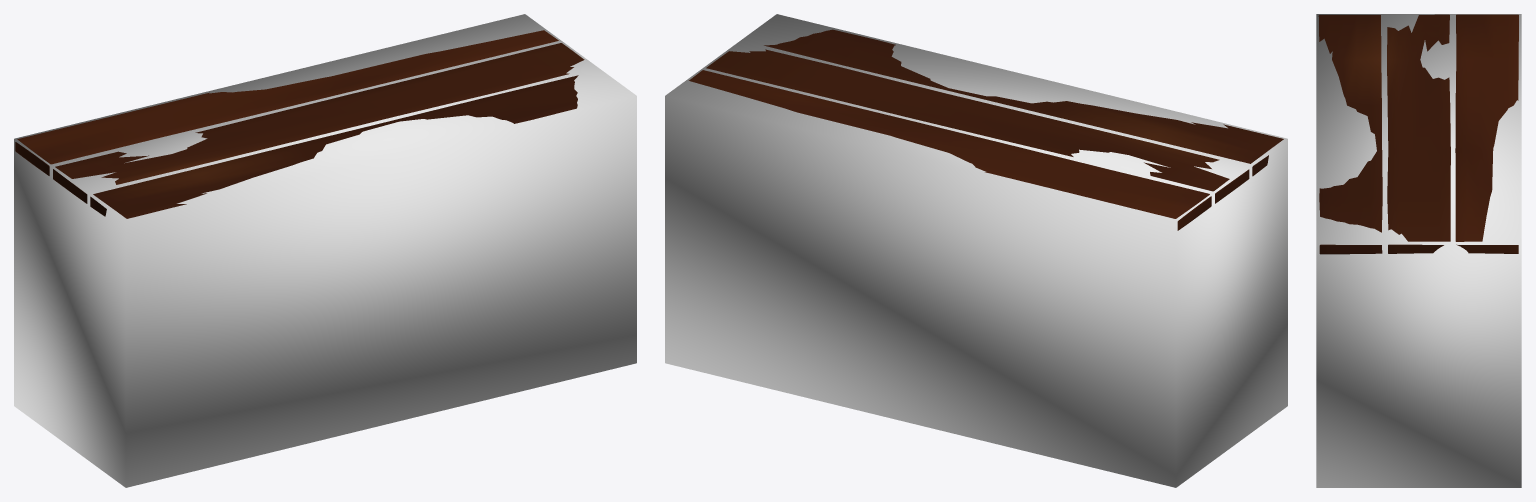
Rendered from mostrador.glb.
3 views of the same model, side by side, from view 1: azimuth 30°, elevation 25°; view 2: azimuth 150°, elevation 25°; view 3: azimuth 270°, elevation 25° (orthographic). The views are drawn at different scales.
Visible parts, largest first — view 1: mostrador-colcaja, mostrador; view 2: mostrador-colcaja, mostrador; view 3: mostrador-colcaja, mostrador.
Part boxes in pixels (x1,y1,x2,y2): mostrador-colcaja: [14, 14, 636, 487]; mostrador: [15, 30, 584, 218]; mostrador-colcaja: [665, 14, 1287, 487]; mostrador: [689, 29, 1283, 230]; mostrador-colcaja: [1316, 14, 1521, 487]; mostrador: [1318, 14, 1518, 254].
Bounding box in the file's own units: 1.9 × 0.9532 × 0.72.
